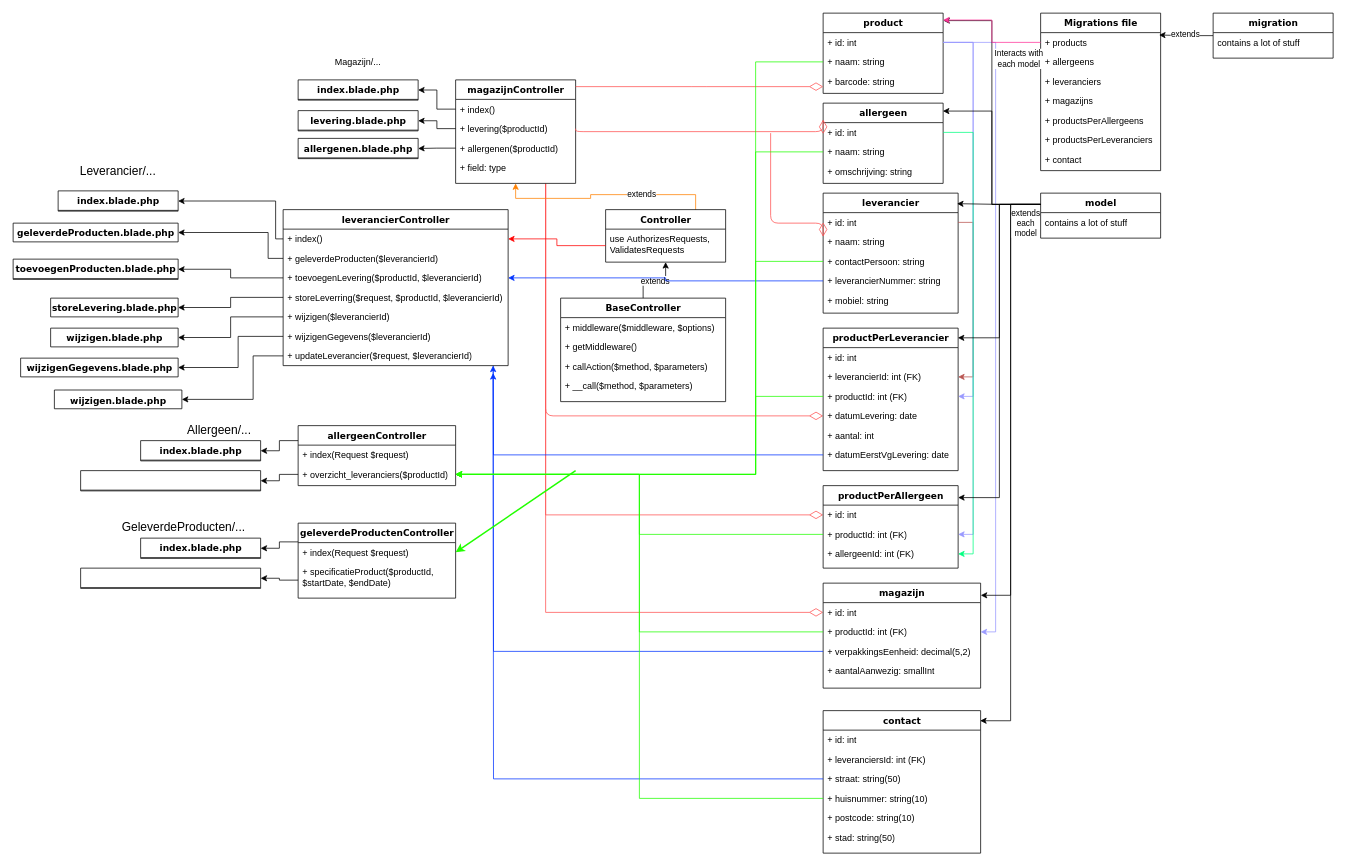
Image size: 1346x866. Some labels were removed from this diagram. Here are the shapes that lost their labels. From the top down, the centre of each, then its label:
point 170,480: overzicht_leveranciers.blade.php
point 170,577: specificatieProduct.blade.php
